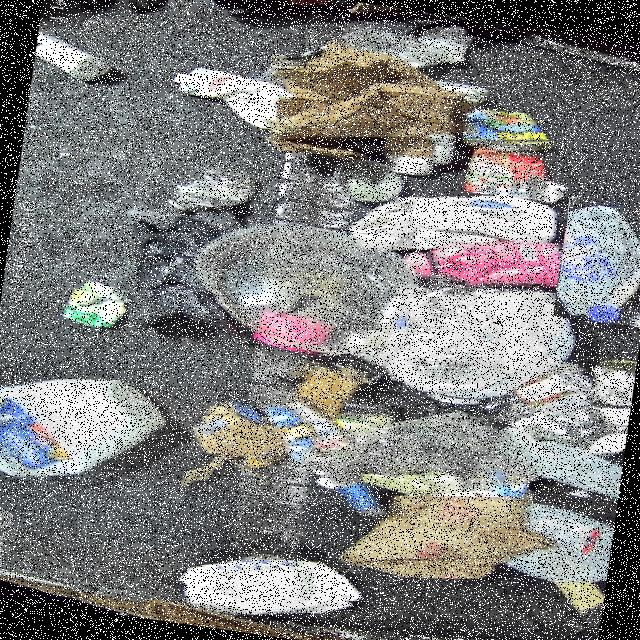milk-jug: (552, 196, 640, 327)
